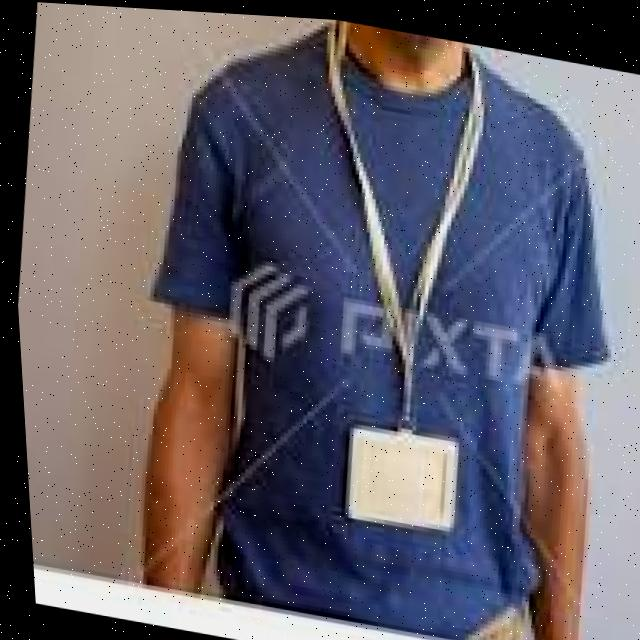id_card: (269, 25, 533, 552)
